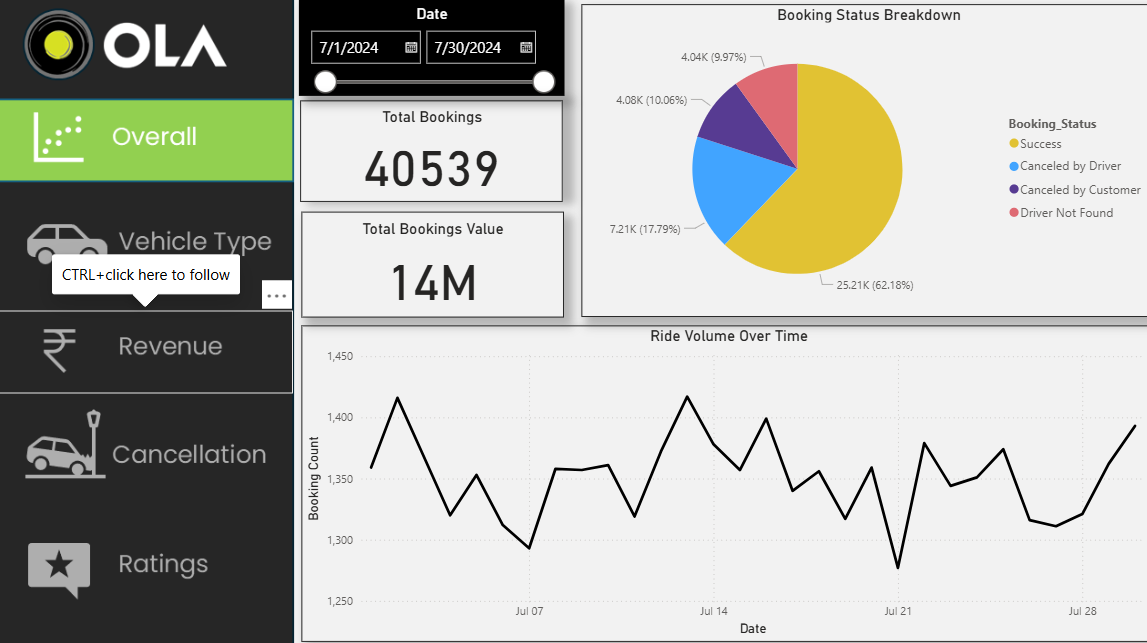

The dashboard page shown, as its layout file describes it:
{"tool":"powerbi","page":{"name":"Overall ","canvas":[1280,720],"ordinal":0},"visuals":[{"type":"actionButton","box":[1.4,223.7,322.5,90.6],"z":0},{"type":"actionButton","box":[0,343.1,322.5,90.6],"z":1000},{"type":"actionButton","box":[0,448.7,322.5,90.6],"z":2000},{"type":"actionButton","box":[0,580.4,322.5,90.6],"z":3000},{"type":"lineChart","title":"Ride Volume Over Time","fields":{"Y":["CountNonNull(July.Booking_ID)"],"Category":["July.Date"]},"box":[331.8,359.5,937.4,347.5],"z":4000},{"type":"pieChart","title":"Booking Status Breakdown","fields":{"Category":["July.Booking_Status"],"Y":["CountNonNull(July.Booking_Status)"]},"box":[639.5,6.9,629.8,343.1],"z":5000},{"type":"slicer","title":"Date","fields":{"Values":["July.Date"]},"box":[329.3,0,290.9,107],"z":6000},{"type":"cardVisual","title":"Total Bookings","fields":{"Data":["Count(July.Booking_ID)"]},"box":[330.6,112.2,288.3,111],"z":6001},{"type":"cardVisual","title":"Total Bookings Value","fields":{"Data":["Sum(July.Booking_Value)"]},"box":[331.8,234,288.3,115.8],"z":6002}]}

Visuals, with their boxes on the page's 1280x720 design canvas (x1, y1, x2, y2). These are canvas units, not pixel positions in the 1147x643 screenshot, which may show the page scaled, cropped or inside an application window:
actionButton: bbox(1, 224, 324, 314)
actionButton: bbox(0, 343, 322, 434)
actionButton: bbox(0, 449, 322, 539)
actionButton: bbox(0, 580, 322, 671)
"Ride Volume Over Time" lineChart: bbox(332, 360, 1269, 707)
"Booking Status Breakdown" pieChart: bbox(640, 7, 1269, 350)
"Date" slicer: bbox(329, 0, 620, 107)
"Total Bookings" cardVisual: bbox(331, 112, 619, 223)
"Total Bookings Value" cardVisual: bbox(332, 234, 620, 350)
